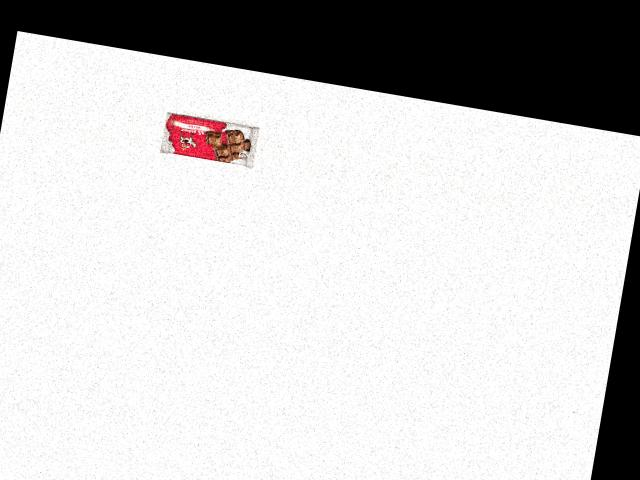chocolate: (145, 87, 265, 163)
